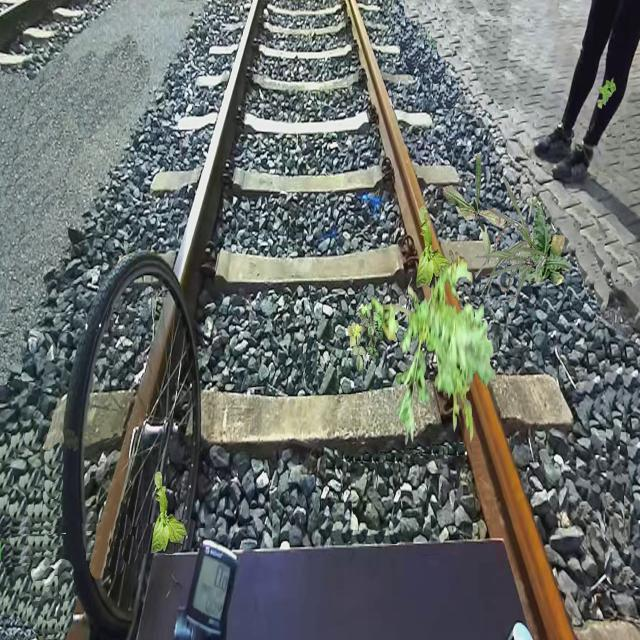Plant: (371, 250, 496, 446), (475, 178, 548, 302), (443, 153, 507, 265), (508, 203, 572, 286), (416, 206, 452, 290), (152, 471, 188, 554), (347, 299, 384, 372), (597, 76, 616, 108)
